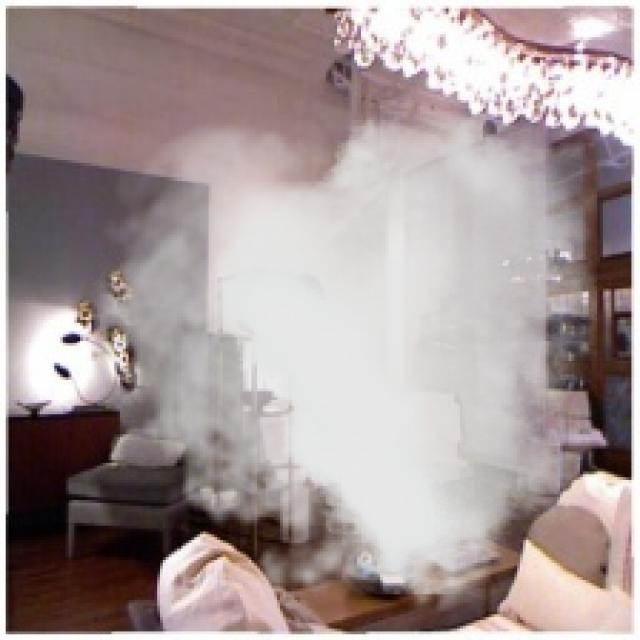smoke: (80, 111, 597, 626)
